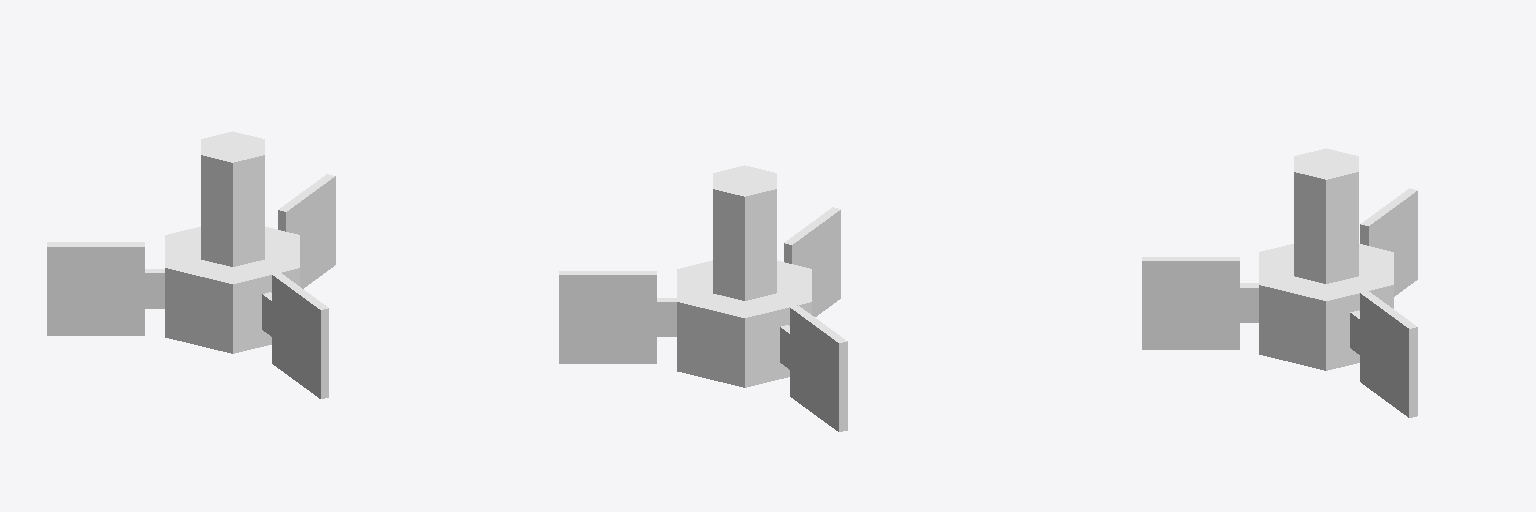
The model's file is fisher.obj.
3 views of the same model, side by side, from view 1: azimuth 30°, elevation 25°; view 2: azimuth 150°, elevation 25°; view 3: azimuth 270°, elevation 25° (orthographic).
Visible parts, largest first — view 1: g5, g7, g3_group, g4_group, g5_group, g6_group, g1_group, g2_group; view 2: g5, g7, g1_group, g2_group, g3_group, g4_group, g5_group, g6_group; view 3: g5, g7, g5_group, g6_group, g1_group, g2_group, g3_group, g4_group.
Part boxes in pixels (left/top/right/bottom): g5: left=165, top=227, right=299, bottom=353; g7: left=201, top=131, right=264, bottom=266; g3_group: left=57, top=255, right=164, bottom=326; g4_group: left=47, top=242, right=144, bottom=335; g5_group: left=262, top=287, right=315, bottom=386; g6_group: left=272, top=272, right=328, bottom=398; g1_group: left=291, top=189, right=330, bottom=281; g2_group: left=278, top=174, right=335, bottom=288; g5: left=677, top=260, right=811, bottom=387; g7: left=713, top=165, right=776, bottom=300; g1_group: left=569, top=284, right=676, bottom=354; g2_group: left=559, top=271, right=656, bottom=363; g3_group: left=780, top=320, right=833, bottom=419; g4_group: left=790, top=305, right=847, bottom=431; g5_group: left=797, top=222, right=835, bottom=310; g6_group: left=784, top=207, right=840, bottom=316; g5: left=1259, top=244, right=1393, bottom=370; g7: left=1294, top=148, right=1358, bottom=283; g5_group: left=1152, top=270, right=1258, bottom=340; g6_group: left=1142, top=257, right=1239, bottom=349; g1_group: left=1350, top=306, right=1404, bottom=405; g2_group: left=1360, top=291, right=1417, bottom=417; g3_group: left=1374, top=203, right=1412, bottom=287; g4_group: left=1360, top=188, right=1417, bottom=296.
Size of the model in its own units: 0.8679 by 0.5281 by 0.7186.